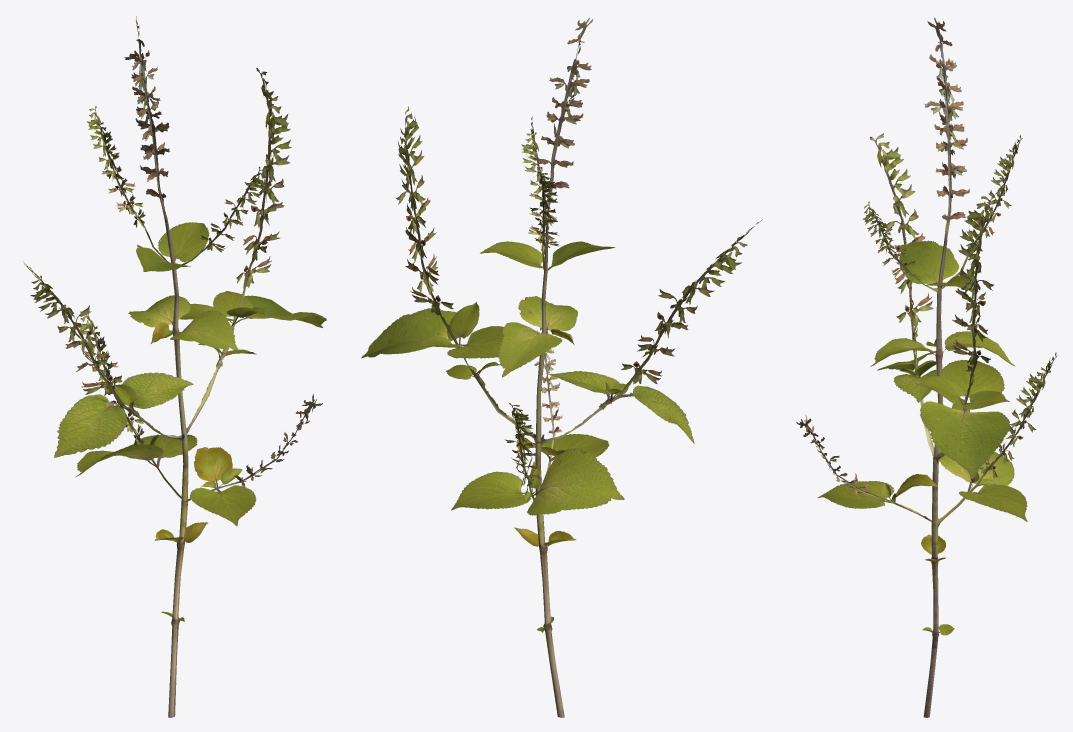
The model's file is shrub-03-b.glb.
3 views of the same model, side by side, from view 1: azimuth 30°, elevation 25°; view 2: azimuth 150°, elevation 25°; view 3: azimuth 270°, elevation 25° (orthographic). The views are drawn at different scales.
Visible parts, largest first — view 1: shrub_03_b; view 2: shrub_03_b; view 3: shrub_03_b.
Boxes of the visible parts, left/top/right/bottom form: shrub_03_b: left=23, top=16, right=326, bottom=717; shrub_03_b: left=361, top=17, right=762, bottom=717; shrub_03_b: left=796, top=17, right=1057, bottom=717.
Bounding box in the file's own units: 0.1843 × 0.3525 × 0.1226.
1 material, 1 textured.
